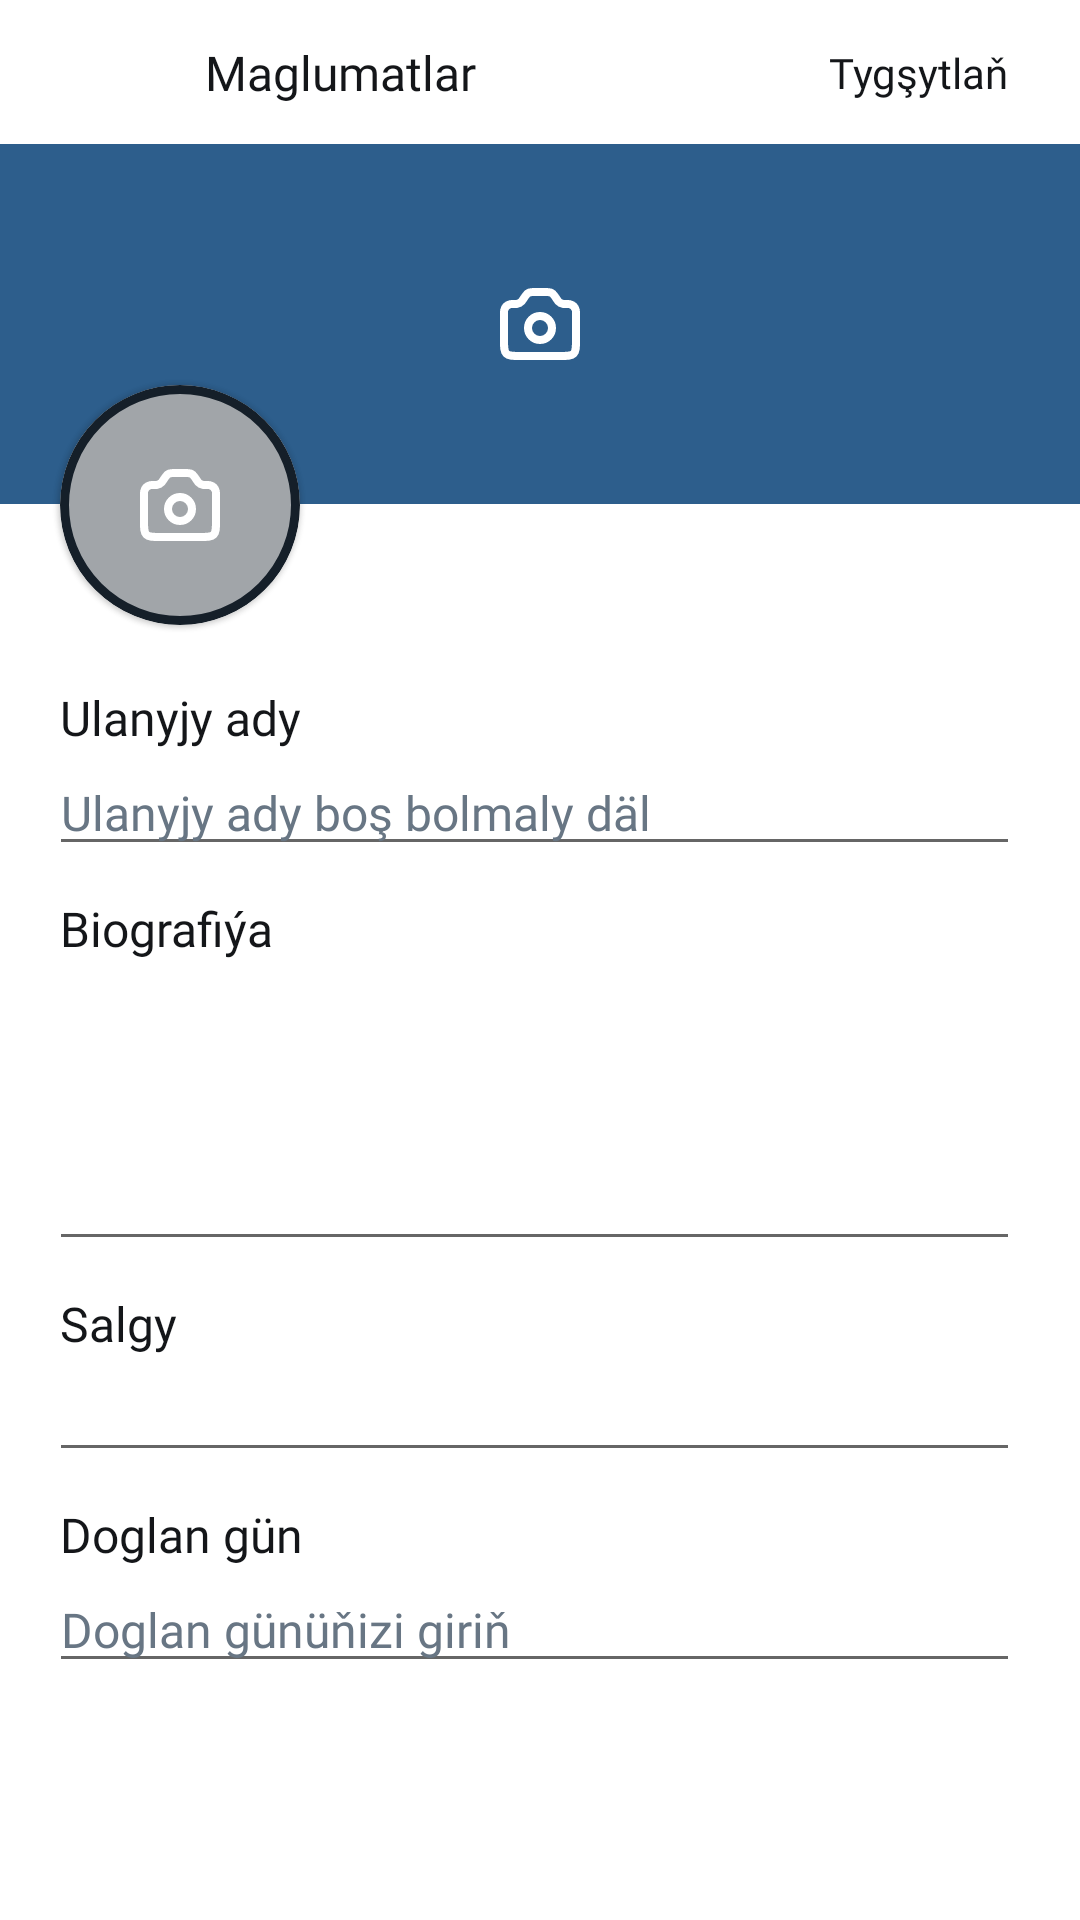

Where to tap for icons on this 1080*1920 app screen, as [x,y]:
camera: [540,324], [180,505]
